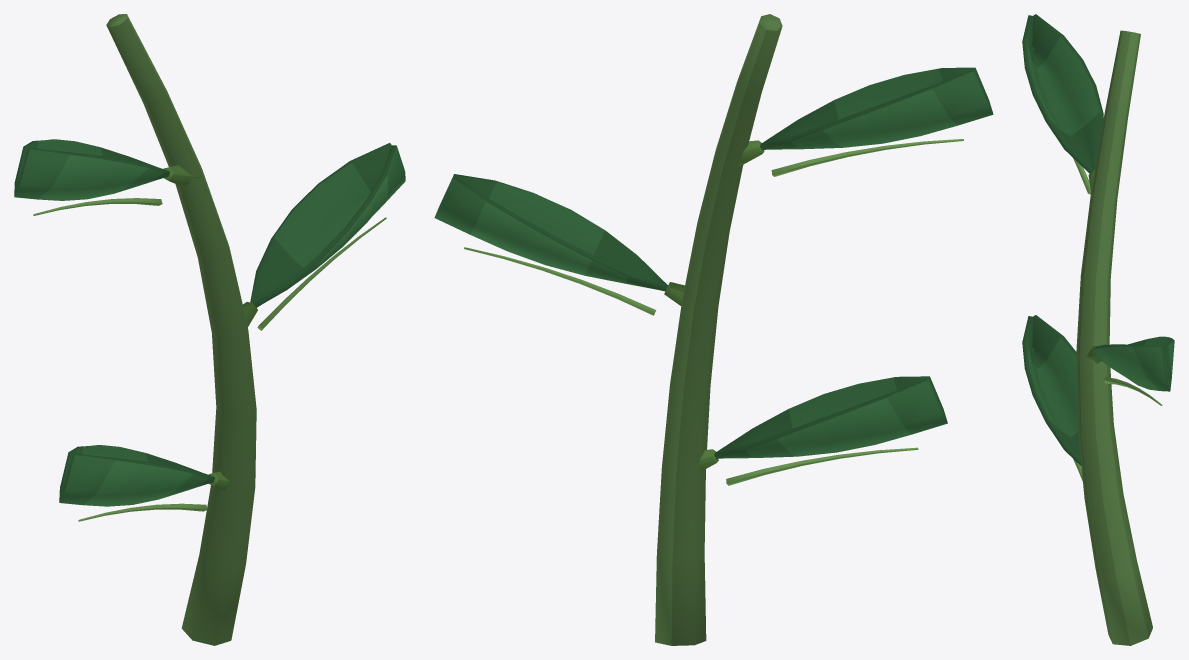
The model's file is garden-zinnia-leaves-stem-0.glb.
3 views of the same model, side by side, from view 1: azimuth 30°, elevation 25°; view 2: azimuth 150°, elevation 25°; view 3: azimuth 270°, elevation 25° (orthographic). The views are drawn at different scales.
Visible parts, largest first — view 1: zinnia-leaves-stem-0; view 2: zinnia-leaves-stem-0; view 3: zinnia-leaves-stem-0.
Boxes of the visible parts, x1,y1,x2,y2 form: zinnia-leaves-stem-0: (14,14,405,645); zinnia-leaves-stem-0: (434,14,993,645); zinnia-leaves-stem-0: (1022,14,1174,645).
Size of the model in its own units: 0.1452 by 0.1886 by 0.0457.
